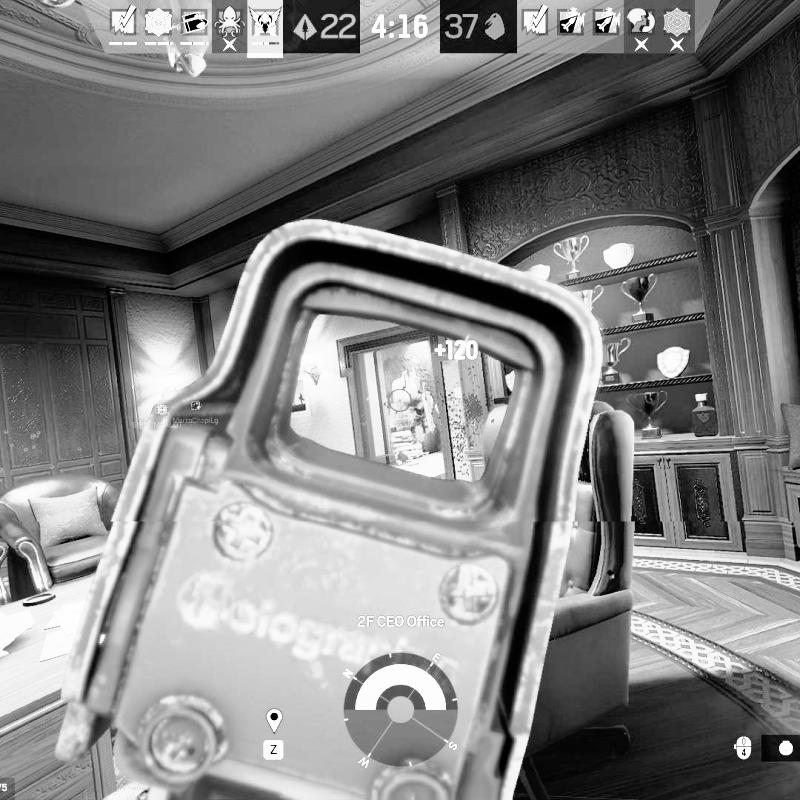Character: (410, 392, 429, 447)
Friend_label: (132, 402, 182, 429), (173, 397, 220, 425)
